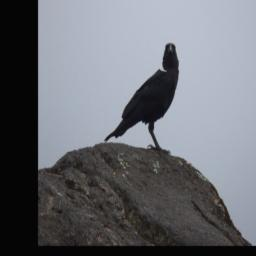Crow: (104, 41, 180, 153)
